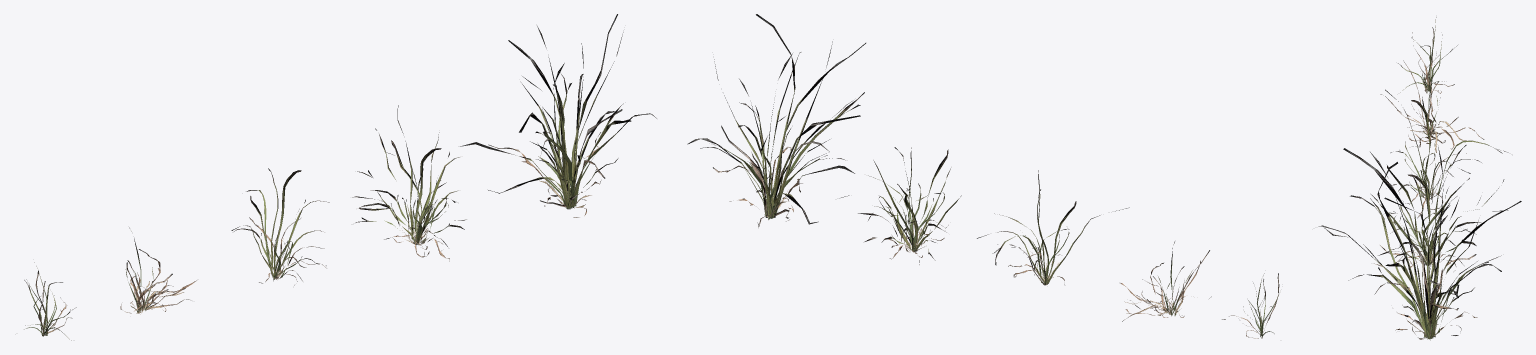
File: grass_medium_02_leaf.glb
The picture shows the model from 3 angles, left to right: view 1: azimuth 30°, elevation 25°; view 2: azimuth 150°, elevation 25°; view 3: azimuth 270°, elevation 25°; orthographic projection. The views are drawn at different scales.
Visible parts, largest first — view 1: grass_medium_02_e, grass_medium_02_d, grass_medium_02_c, grass_medium_02_b, grass_medium_02_a; view 2: grass_medium_02_e, grass_medium_02_d, grass_medium_02_c, grass_medium_02_b, grass_medium_02_a; view 3: grass_medium_02_e, grass_medium_02_d, grass_medium_02_c, grass_medium_02_b, grass_medium_02_a.
Boxes of the visible parts, bbox=[...] form: grass_medium_02_e: bbox=[460, 14, 656, 217]; grass_medium_02_d: bbox=[352, 105, 466, 261]; grass_medium_02_c: bbox=[231, 168, 329, 285]; grass_medium_02_b: bbox=[120, 227, 196, 314]; grass_medium_02_a: bbox=[24, 262, 76, 340]; grass_medium_02_e: bbox=[687, 14, 865, 227]; grass_medium_02_d: bbox=[839, 147, 961, 264]; grass_medium_02_c: bbox=[977, 170, 1129, 285]; grass_medium_02_b: bbox=[1120, 241, 1211, 321]; grass_medium_02_a: bbox=[1222, 273, 1279, 338]; grass_medium_02_e: bbox=[1318, 147, 1521, 340]; grass_medium_02_d: bbox=[1371, 145, 1508, 270]; grass_medium_02_c: bbox=[1385, 89, 1508, 218]; grass_medium_02_b: bbox=[1380, 53, 1484, 152]; grass_medium_02_a: bbox=[1398, 17, 1457, 93].
Size of the model in its own units: 1.3 by 0.4056 by 0.402.
Materials: 1 (1 with a texture image).
